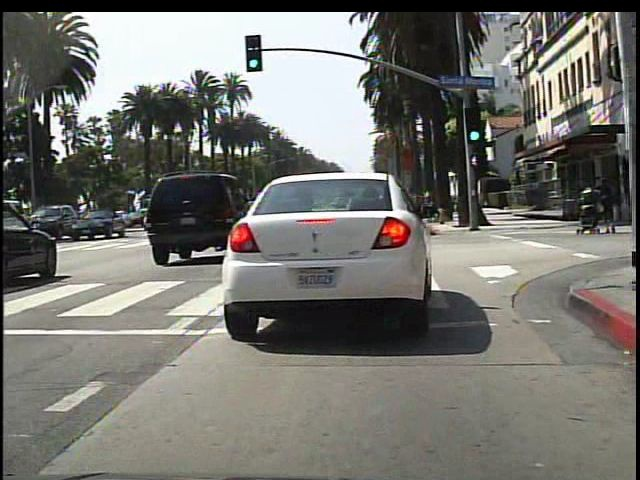person: (575, 161, 617, 241)
